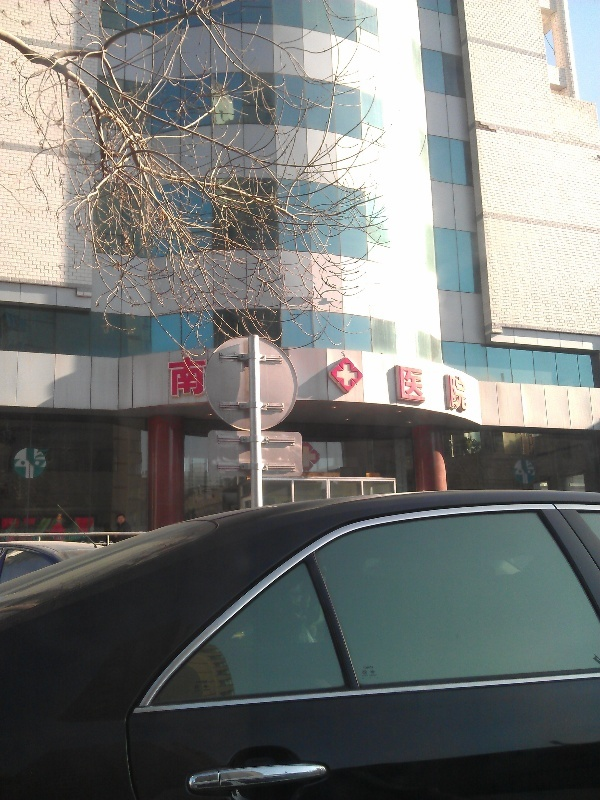text: (401, 363, 416, 413), (417, 363, 432, 413), (433, 363, 448, 413), (449, 363, 464, 413), (177, 355, 192, 399), (193, 355, 208, 399), (168, 355, 176, 399), (393, 363, 400, 413), (465, 363, 469, 413), (363, 667, 368, 669), (369, 667, 374, 669)
